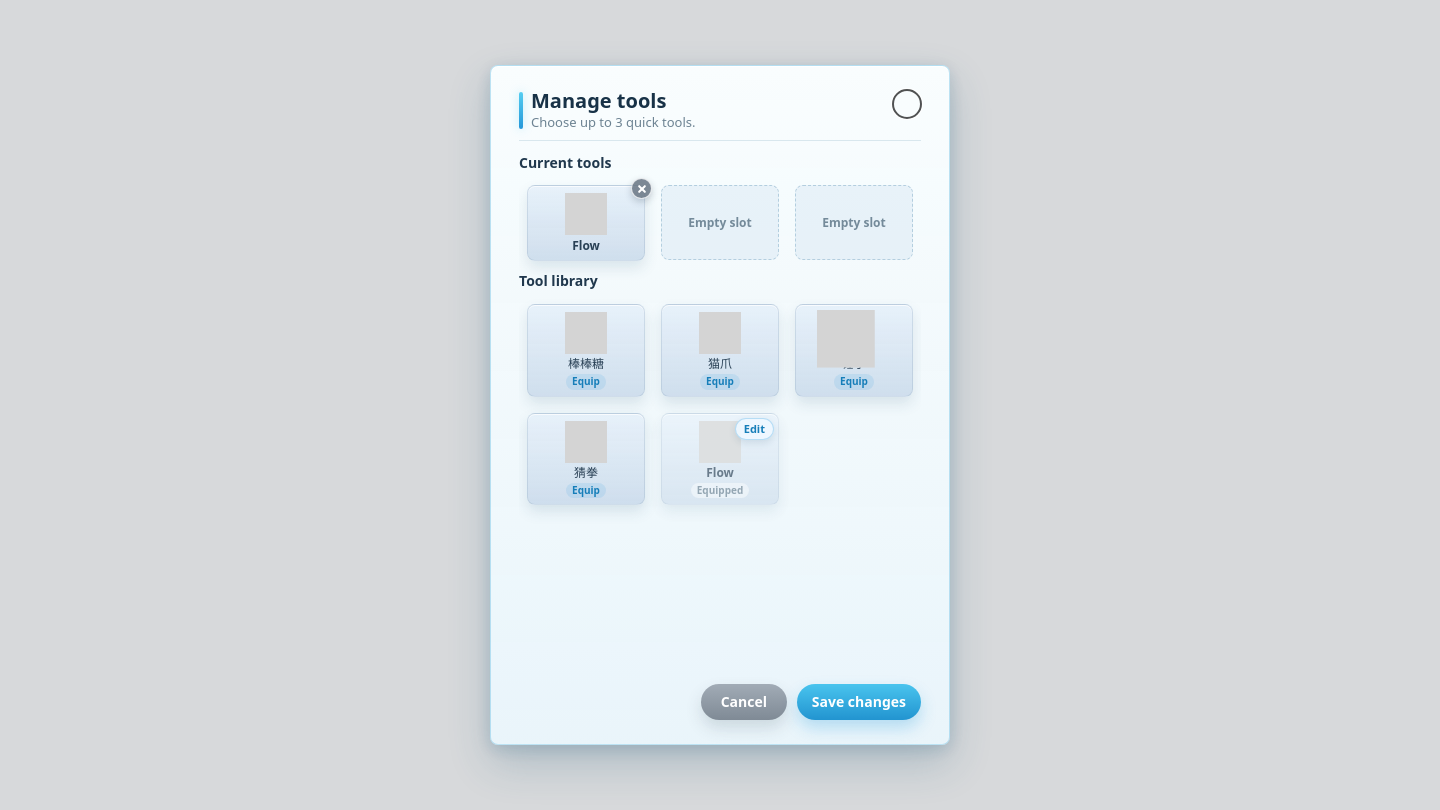
Scenario: AvatarToolItemManager local creation › revision conflicts › explains a tool_delete_pending refusal on save or delete as an unrecovered interruption
The width and height of the screenshot is (1440, 810).
Click the button with aria-label "Edit Flow" at (754, 428), box [735,418,774,440]
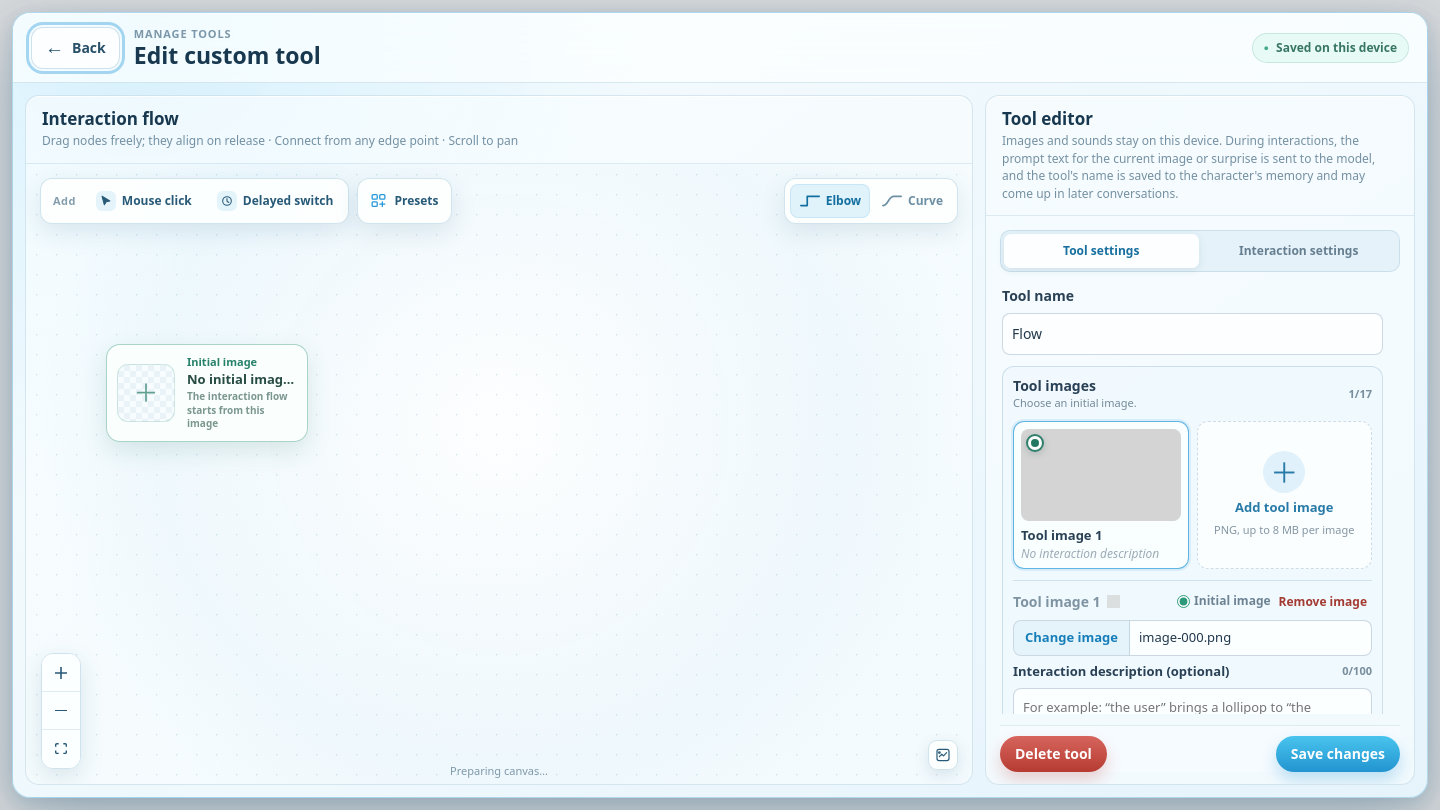
Check: the dialog "Edit custom tool" is shown
Click the button "Delete tool" at (1053, 754), box [1000,736,1107,772]
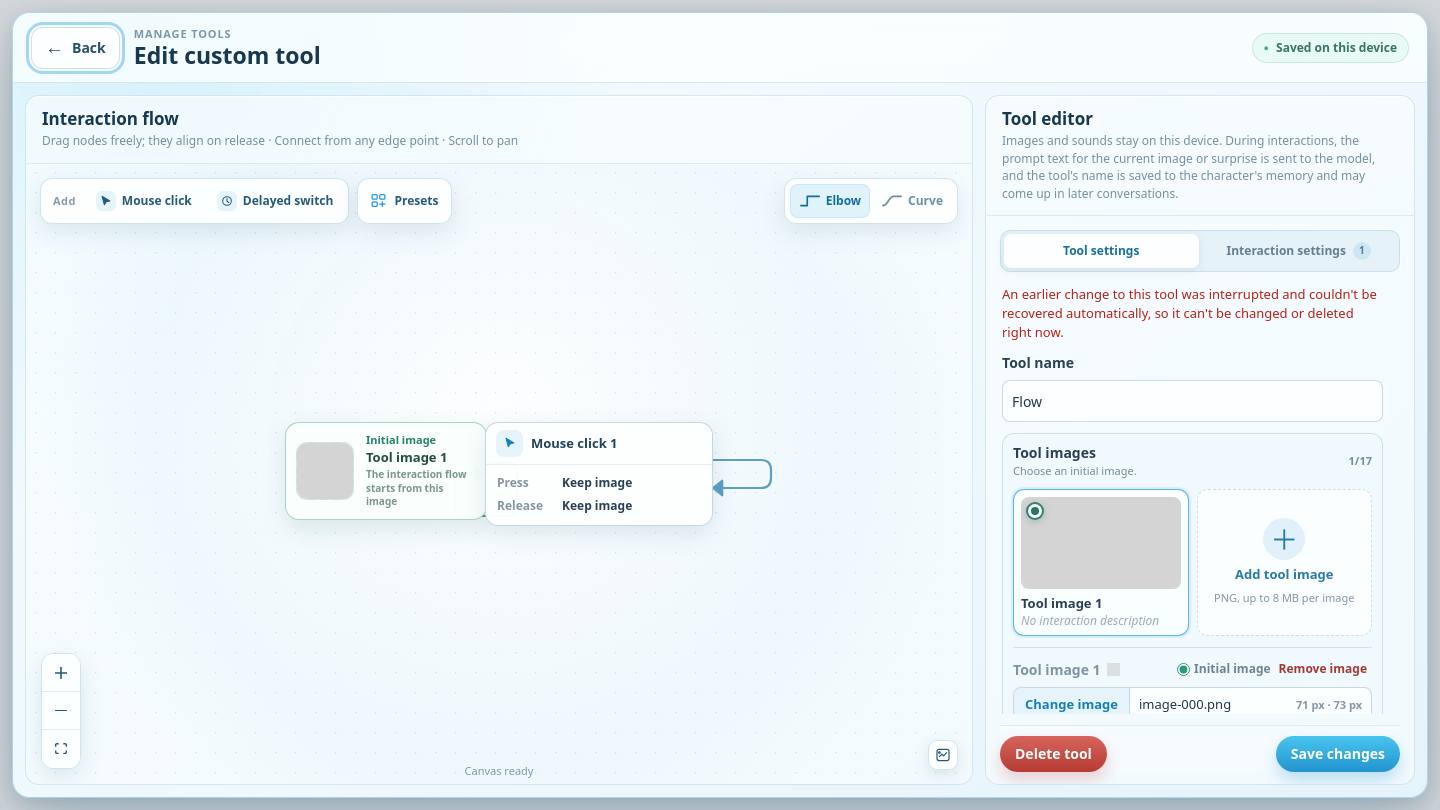
Check: the dialog "Edit custom tool" is shown
Check: the 1st message shows "An earlier change to this tool was interrupted and couldn't be recovered automatically", box [1002,285,1377,341]
Replace the text in the field labelled "Tool name" with "Flow edited" at (1192, 402), box [1002,380,1383,422]
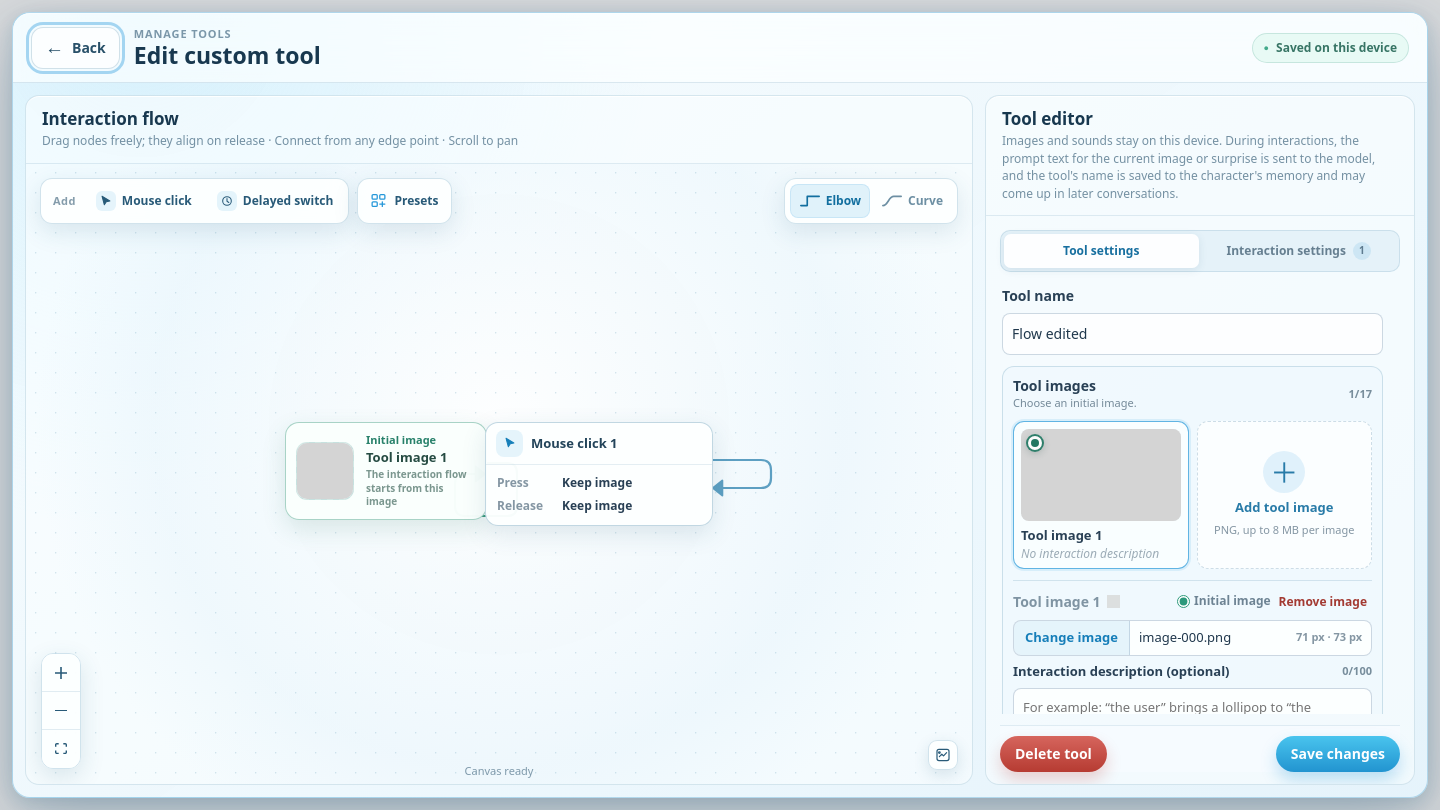
Submit the form with class "avatar-tool-create-page", box [1000,230,1400,772]
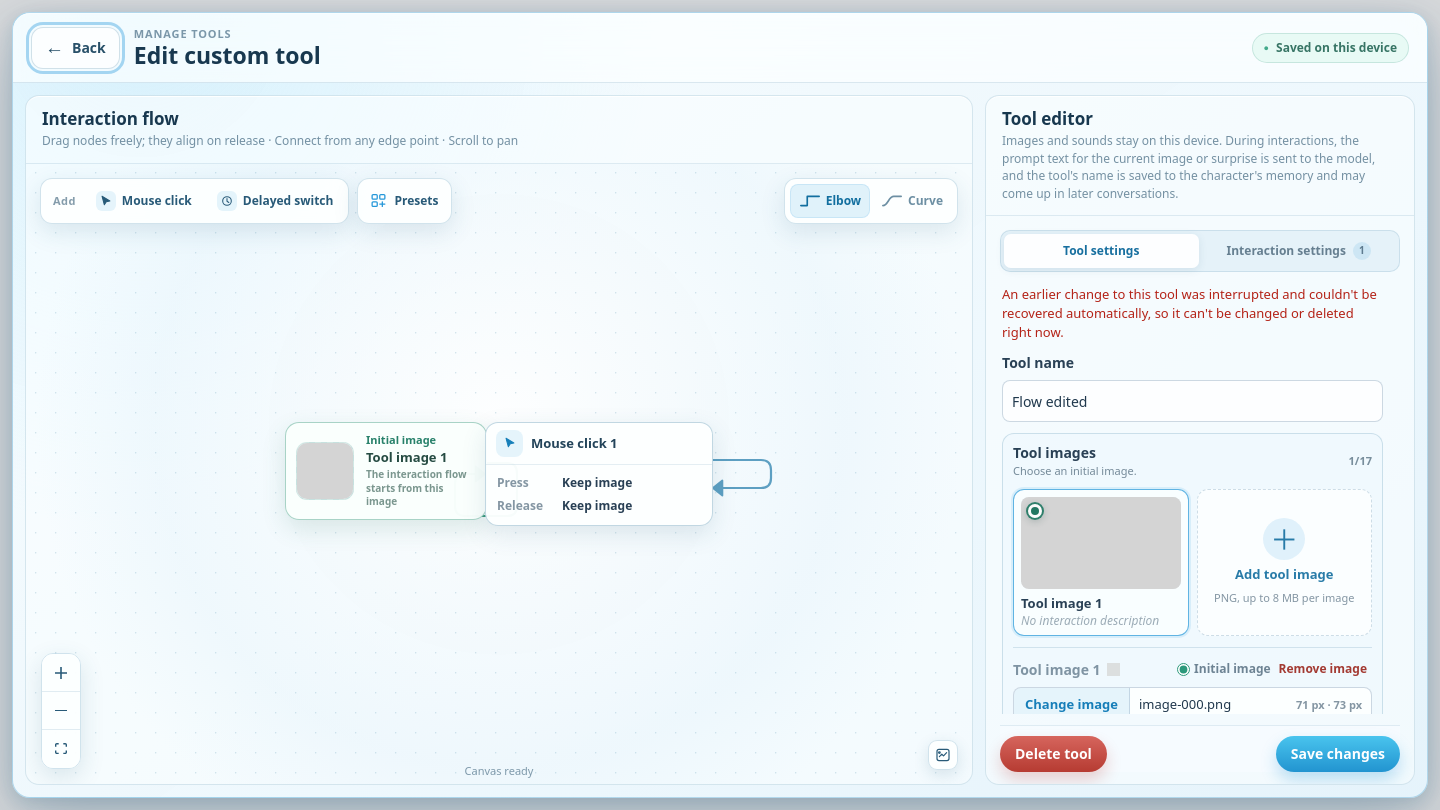
Check: the 1st message shows "An earlier change to this tool was interrupted and couldn't be recovered automatically", box [1002,285,1377,341]
